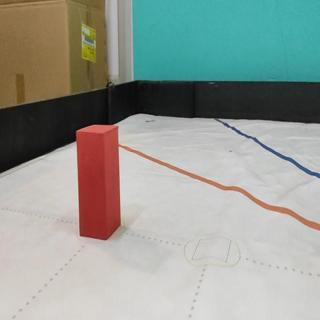redbox: (75, 123, 120, 240)
